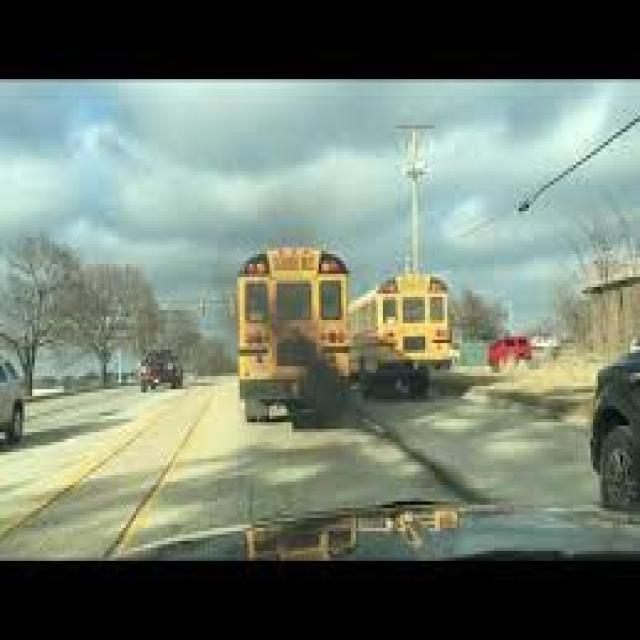Smoke: (259, 297, 361, 435)
